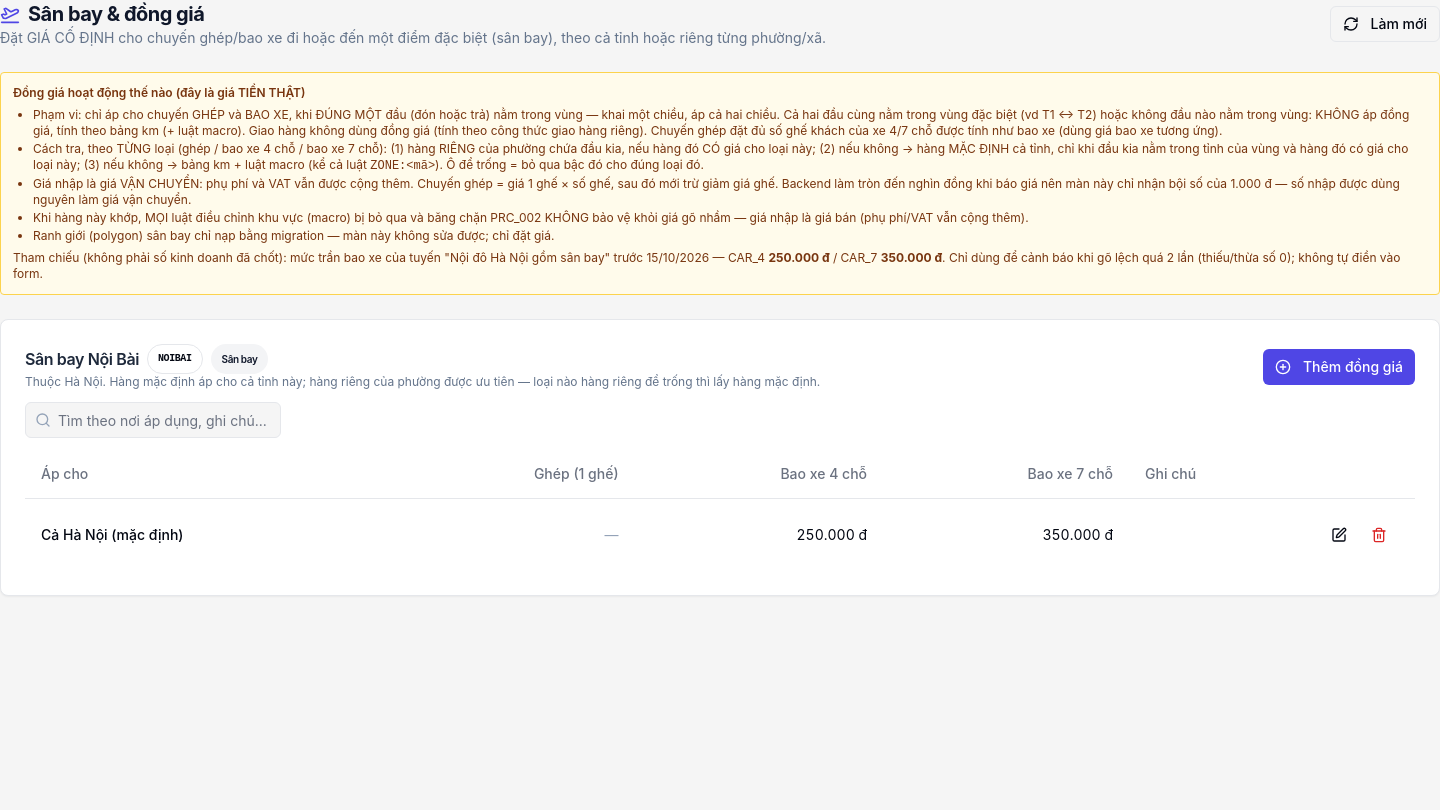
Test: SpecialZonesManager › lỗi từ backend khi lưu: toast lỗi, KHÔNG báo đã lưu, nạp lại hàng để giá cũ không cũ, giữ hộp thoại sửa
Check: the element with test id "zone-NOIBAI" is shown, box [0,319,1439,596]
Click the button named "Sửa đồng giá Cả Hà Nội" at (1339, 534), box [1319,514,1359,554]
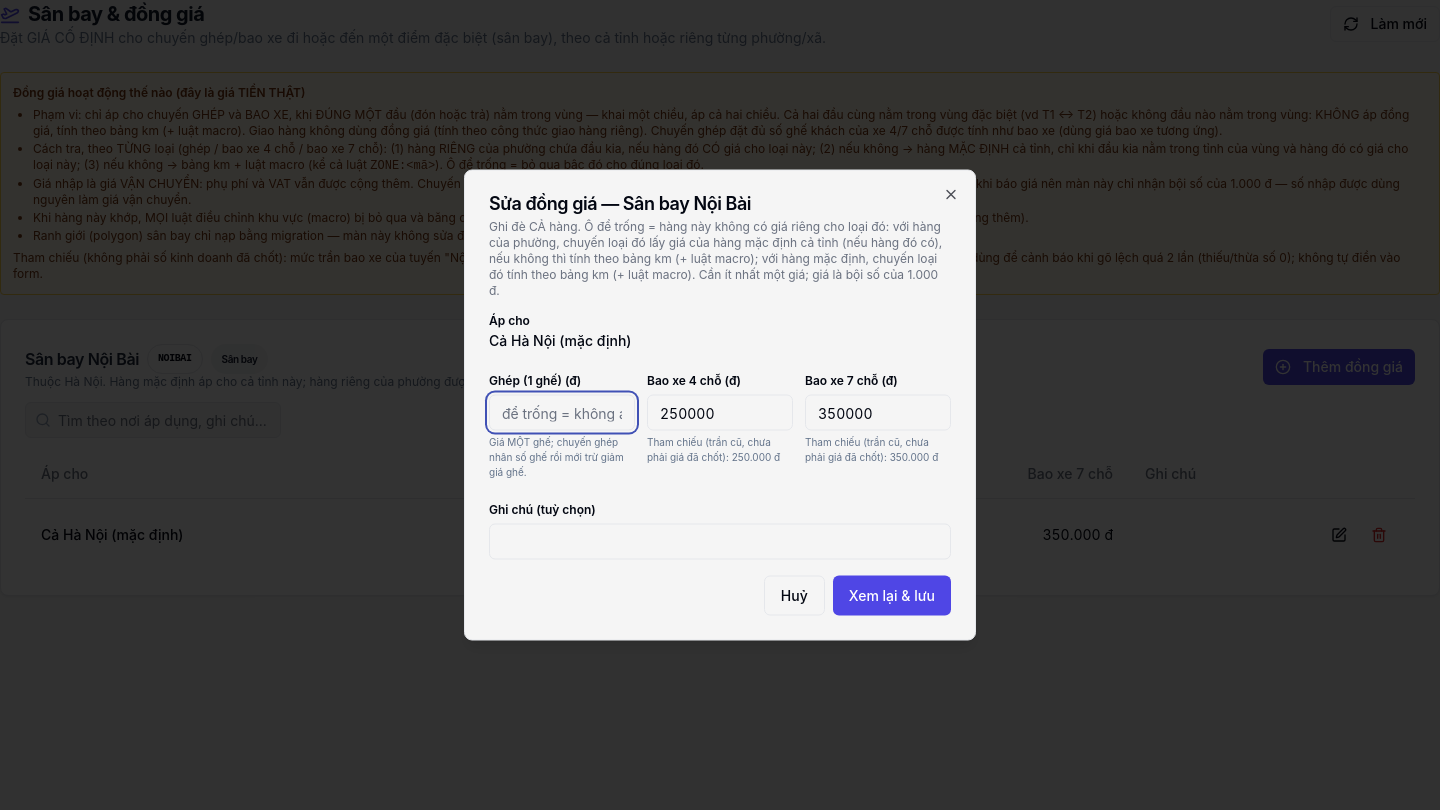
Replace the text in the field labelled "Bao xe 7 chỗ (đ)" with "360000" at (878, 412), box [805,394,951,430]
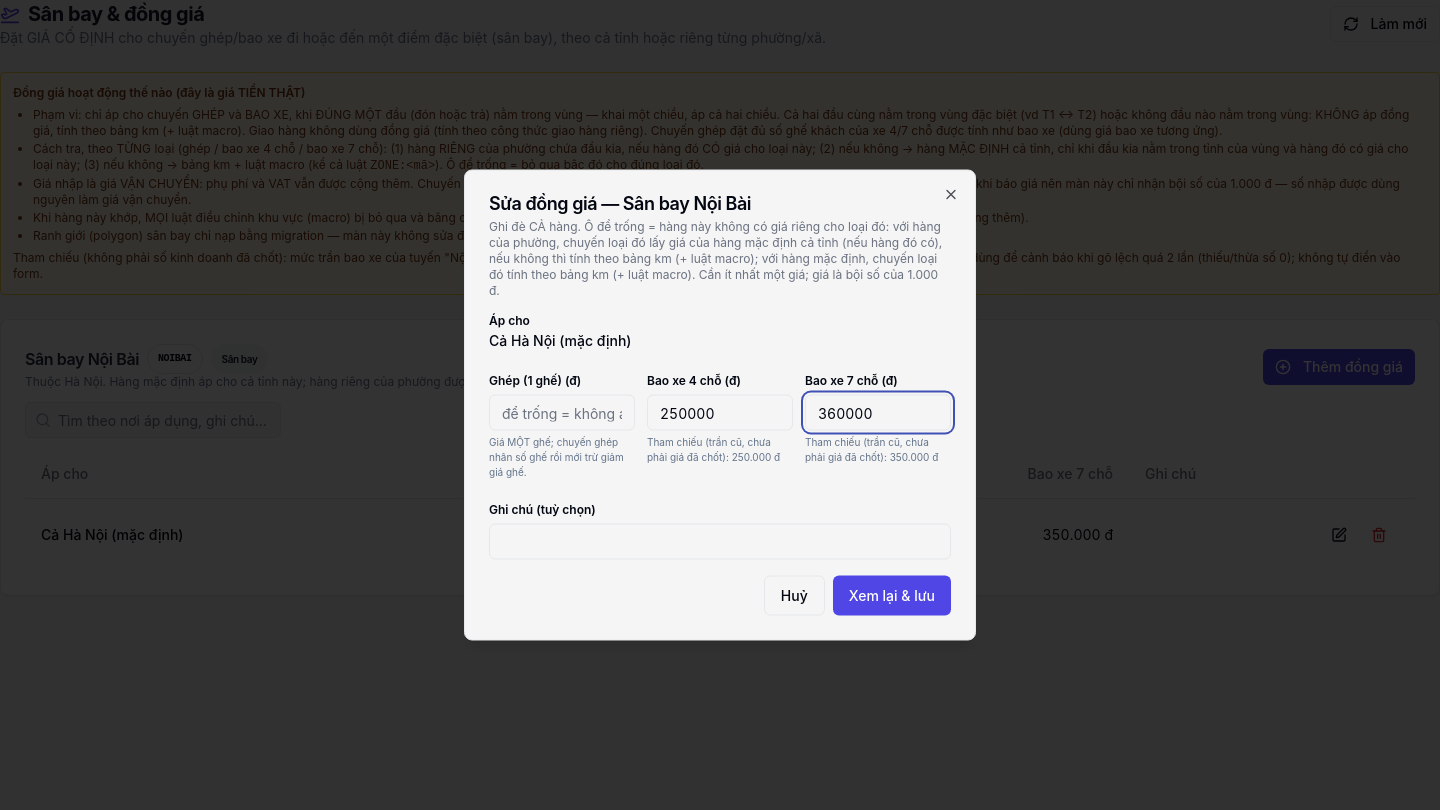
Click the button "Xem lại & lưu" at (892, 596), box [833,576,951,616]
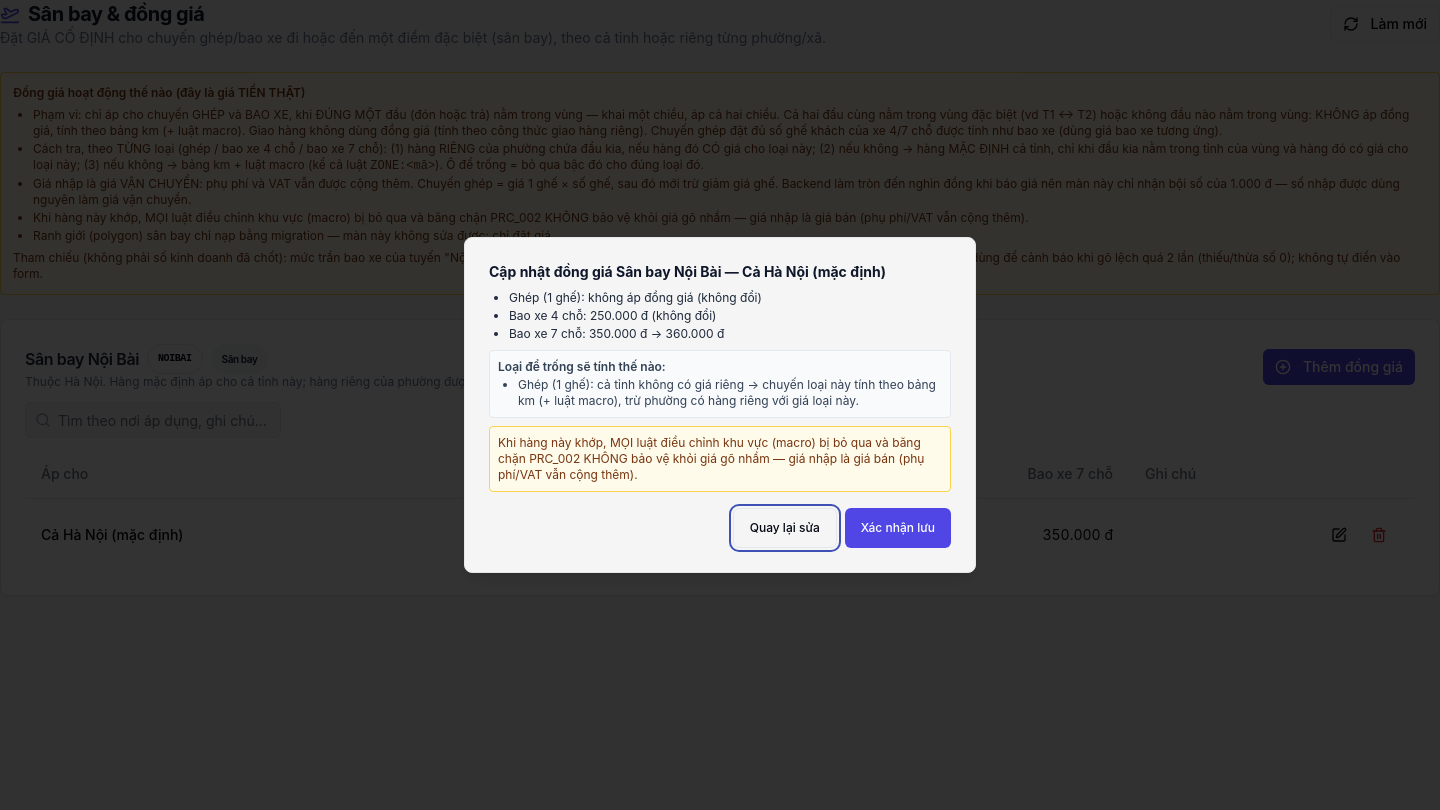
Click the button "Xác nhận lưu" at (898, 528), box [845,508,951,548]
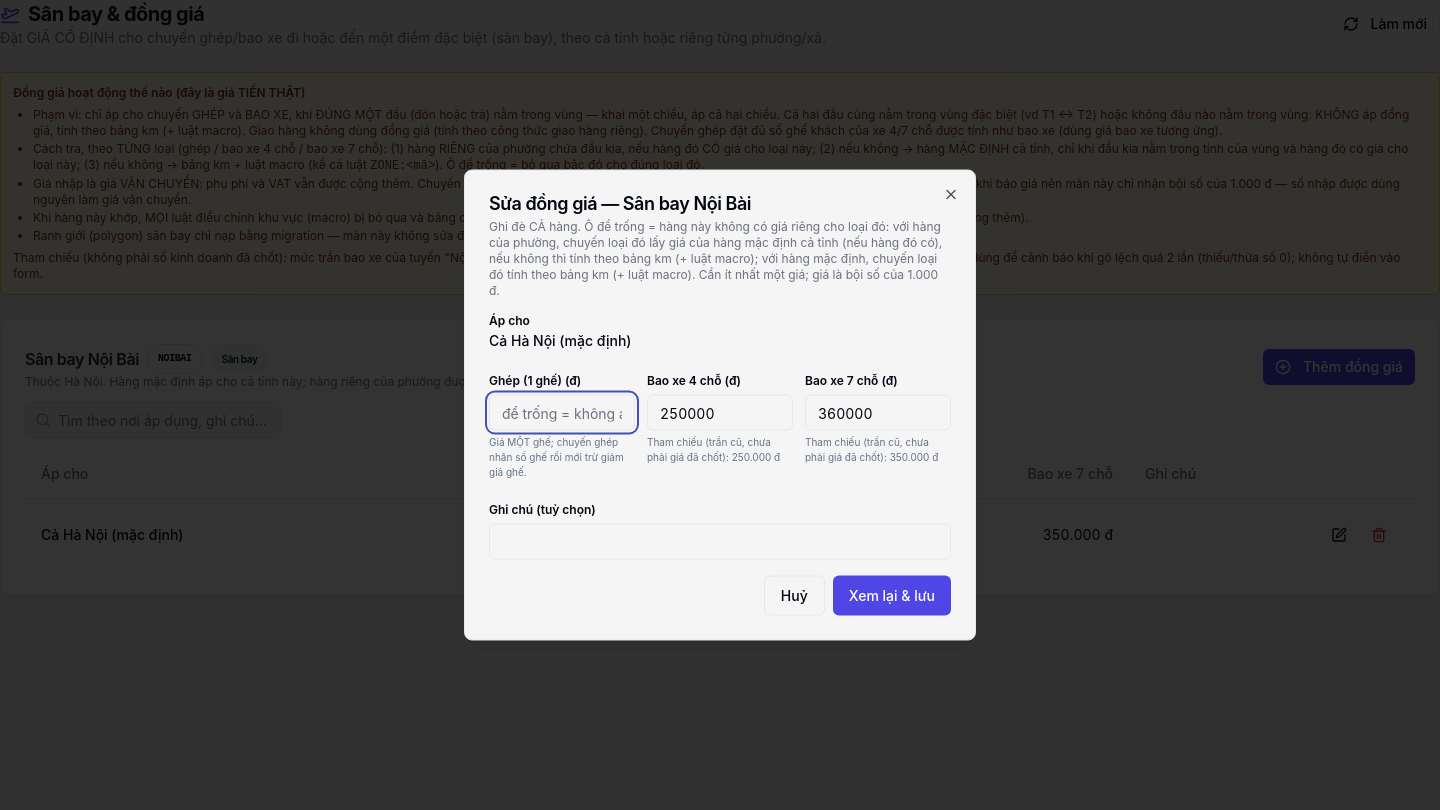
Check: the field labelled "Bao xe 7 chỗ (đ)" holds "360000", box [805,394,951,430]
